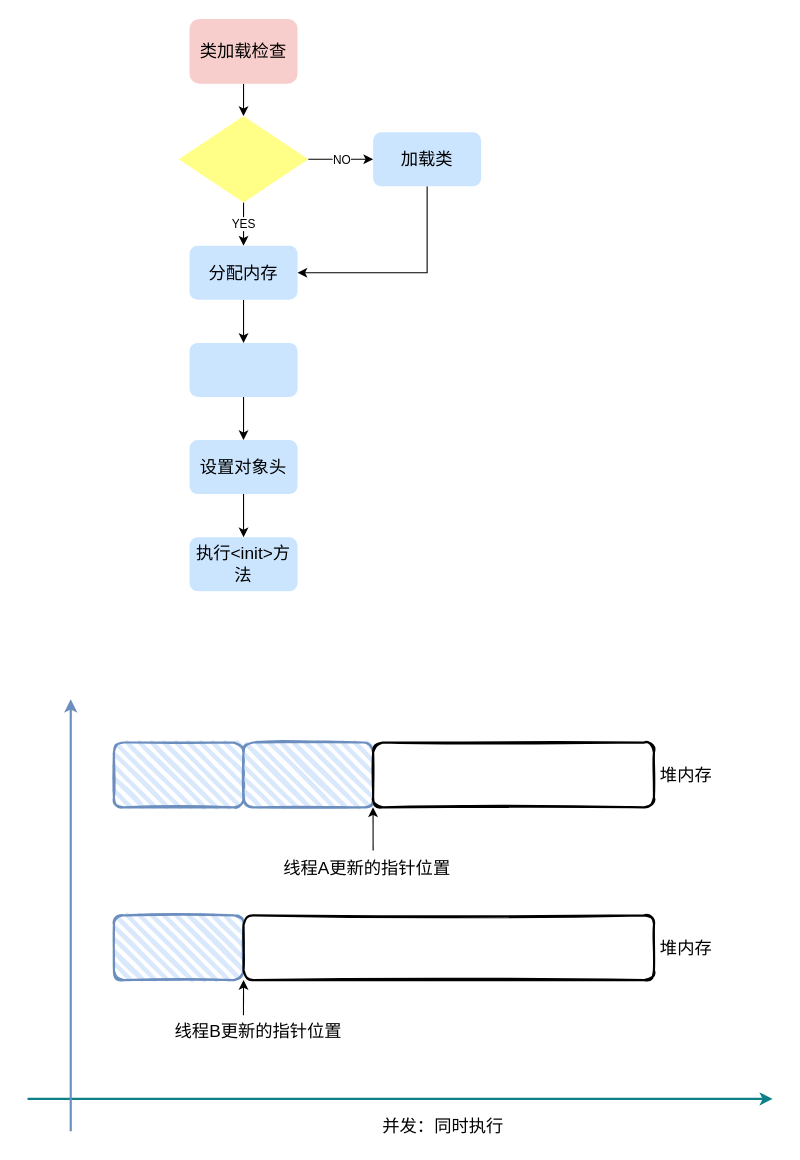
This 800x1160 diagram has some shape labels left out. The centre of each missing label's shape, as x and y in pixels:
初始化: the point at 243,369
是否已加 载类: the point at 243,159
